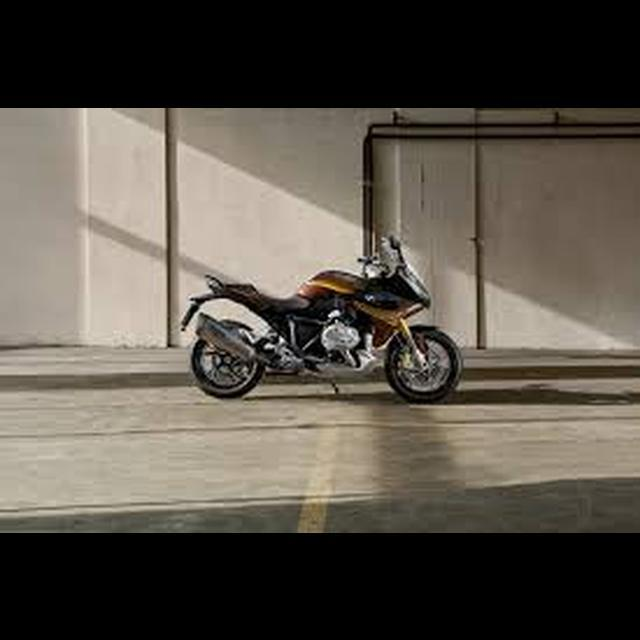motorcycle: (177, 231, 468, 408)
